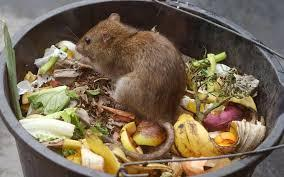rat: (75, 12, 262, 136)
